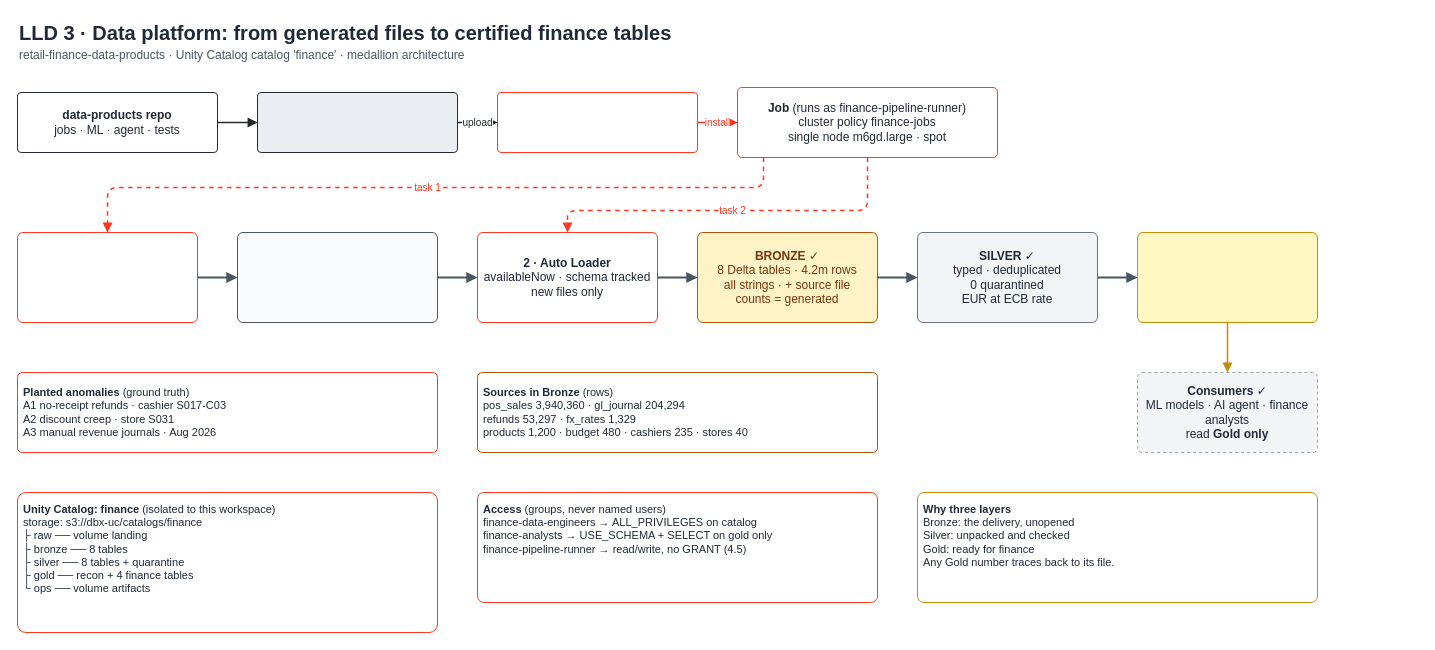
Image size: 1435x650. Some labels were removed from this diagram. Here are the shapes that lost their labels. From the top down, the centre of each, then its label:
(x=357, y=122): GitHub Actions build wheel · bundle deploy
(x=597, y=122): finance.ops.artifacts job wheels (volume)
(x=107, y=277): 1 · generate 40 stores · 21 months 3 planted anomalies
(x=337, y=277): raw.landing (volume) one folder per source · CSV _ground_truth/ · _system/
(x=1227, y=277): GOLD ✓ GL vs POS reconciled revenue · margin · refunds actual vs budget
